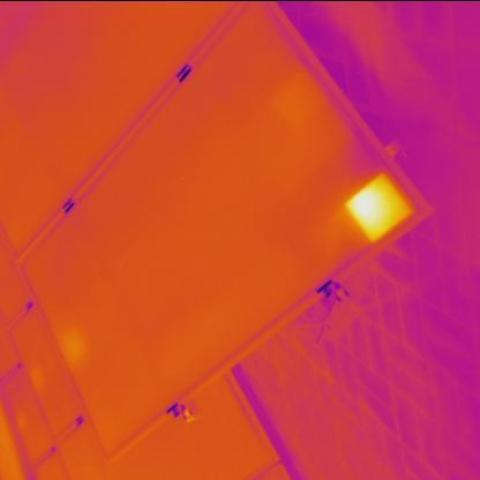fault: (350, 180, 404, 231)
